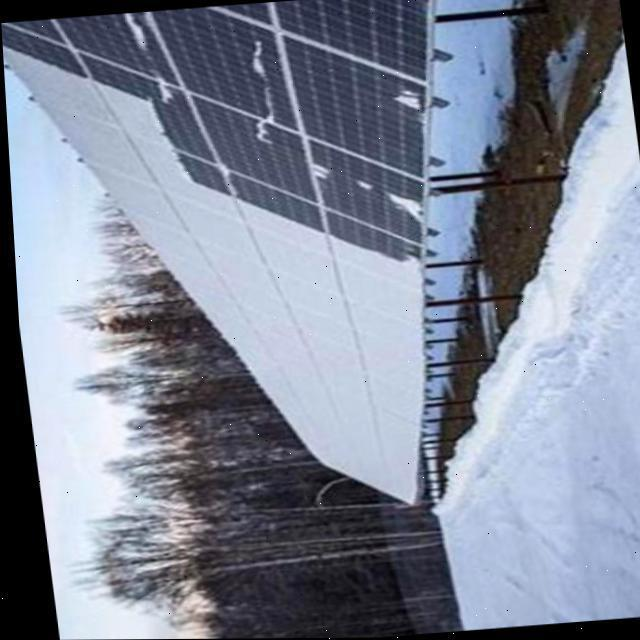Anomaly Solar Panel: (1, 0, 430, 506)
Snow: (2, 47, 417, 507)
